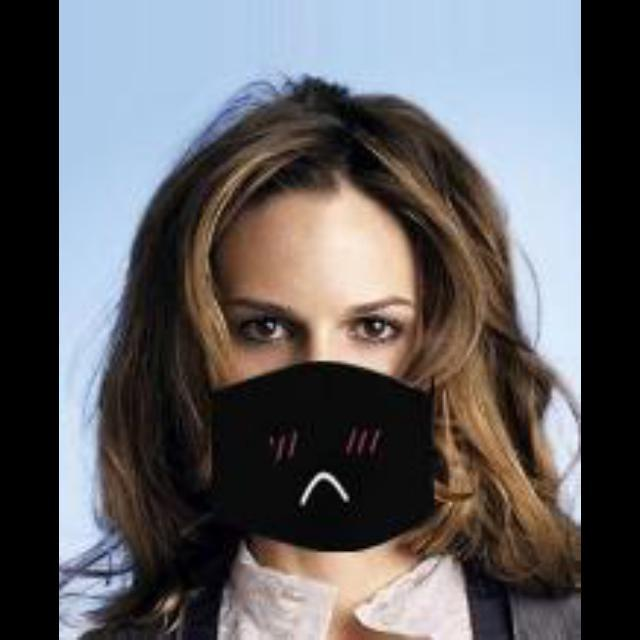suspicion: (184, 158, 486, 564)
